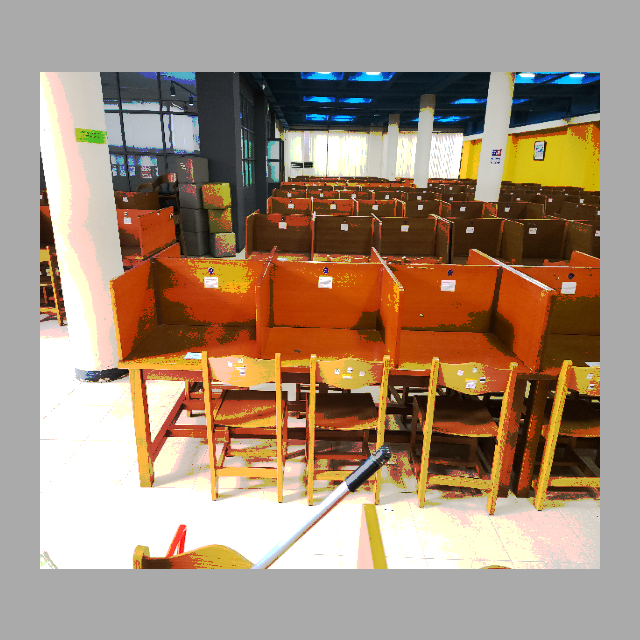empty: (110, 248, 265, 421), (403, 239, 541, 422), (269, 237, 398, 414)
